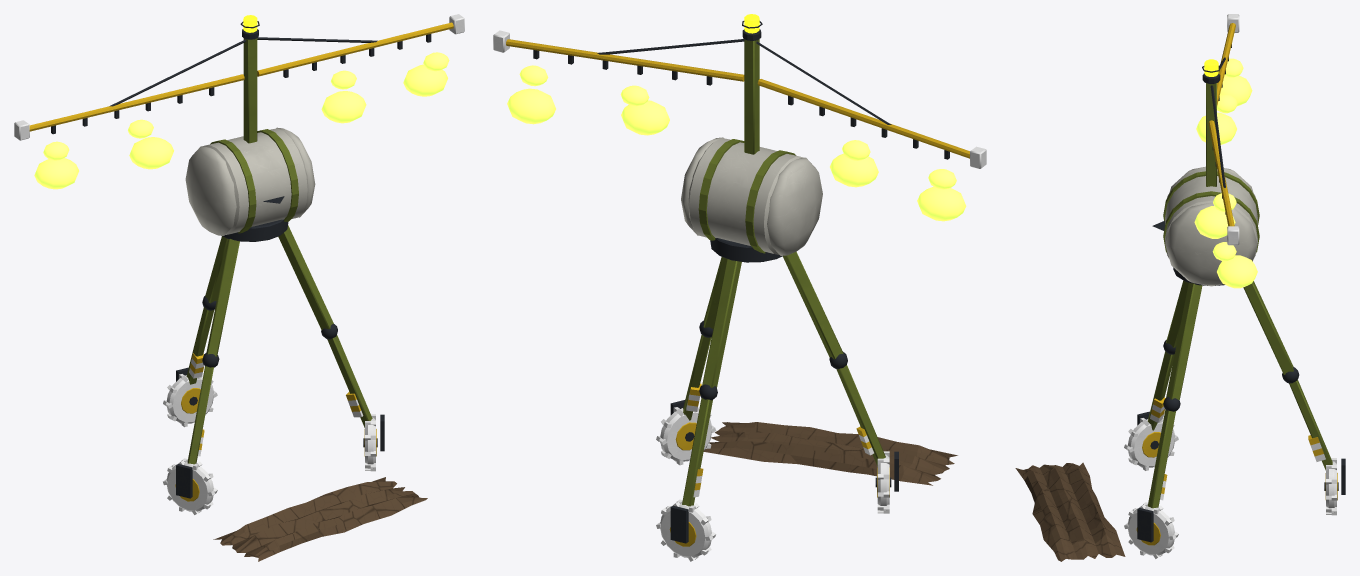
Rendered from thresher_spray_mast.glb.
3 views of the same model, side by side, from view 1: azimuth 30°, elevation 25°; view 2: azimuth 150°, elevation 25°; view 3: azimuth 270°, elevation 25° (orthographic). The views are drawn at different scales.
Visible parts, largest first — view 1: thresher_spray_mast; view 2: thresher_spray_mast; view 3: thresher_spray_mast.
Boxes of the visible parts, x1,y1,x2,y2 form: thresher_spray_mast: (14,14,464,561); thresher_spray_mast: (493,14,986,561); thresher_spray_mast: (1015,14,1345,561).
Bounding box in the file's own units: 9.42 × 9.1 × 6.06.
Materials: 14 (12 with a texture image).
